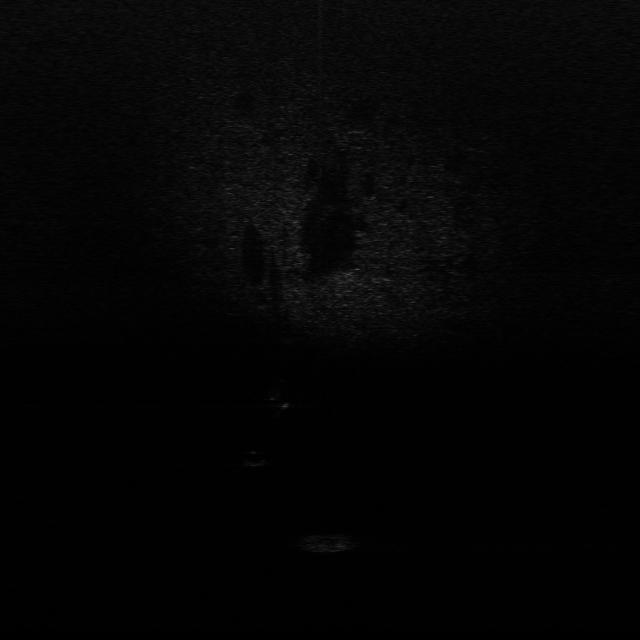ball: (242, 448, 270, 469)
circle cage: (296, 528, 360, 556)
human body: (266, 374, 292, 416)
